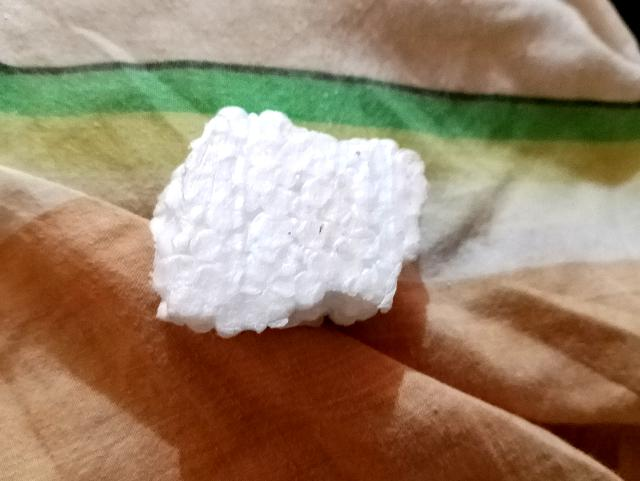cocksheet: (134, 115, 445, 345)
